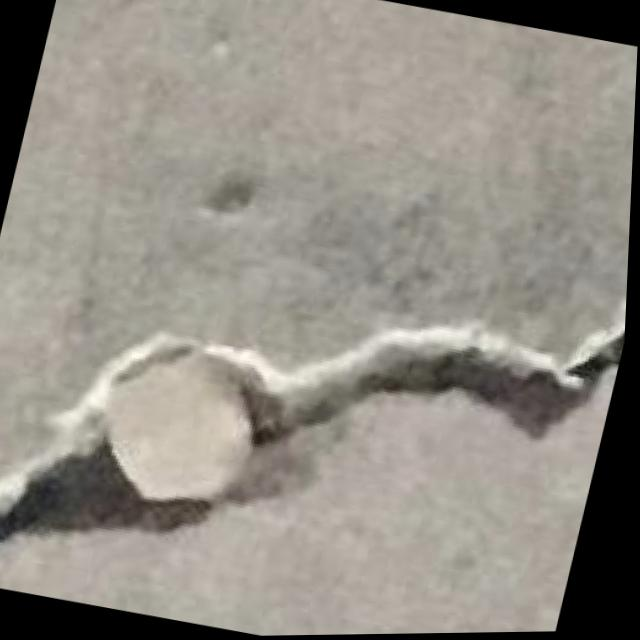Crack: (0, 195, 633, 640)
